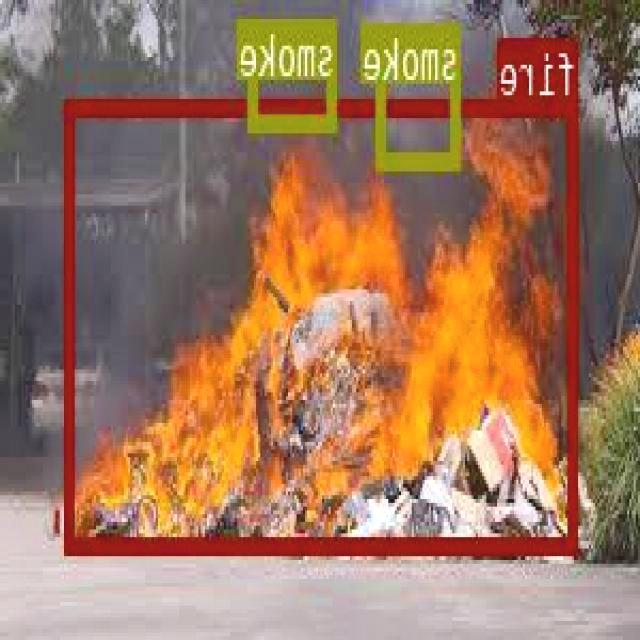fire: (68, 96, 580, 549)
smoke: (379, 20, 462, 167), (250, 17, 338, 126)
